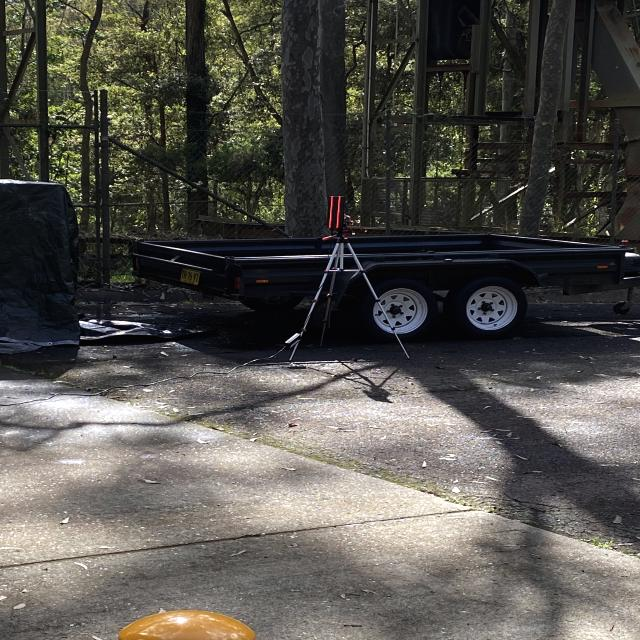matrix: (326, 194, 345, 230)
